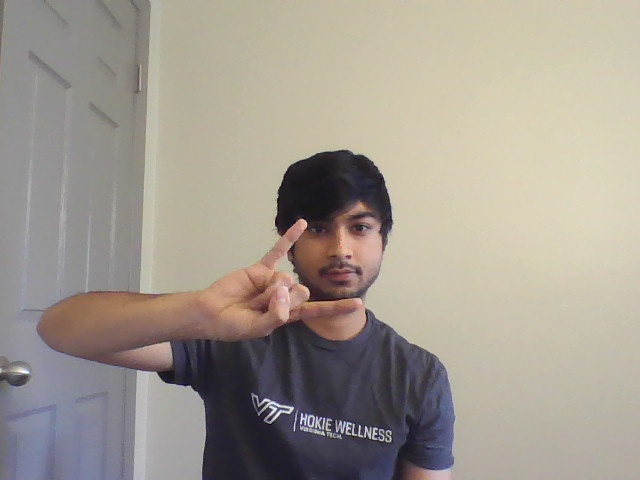help: (205, 216, 364, 348)
